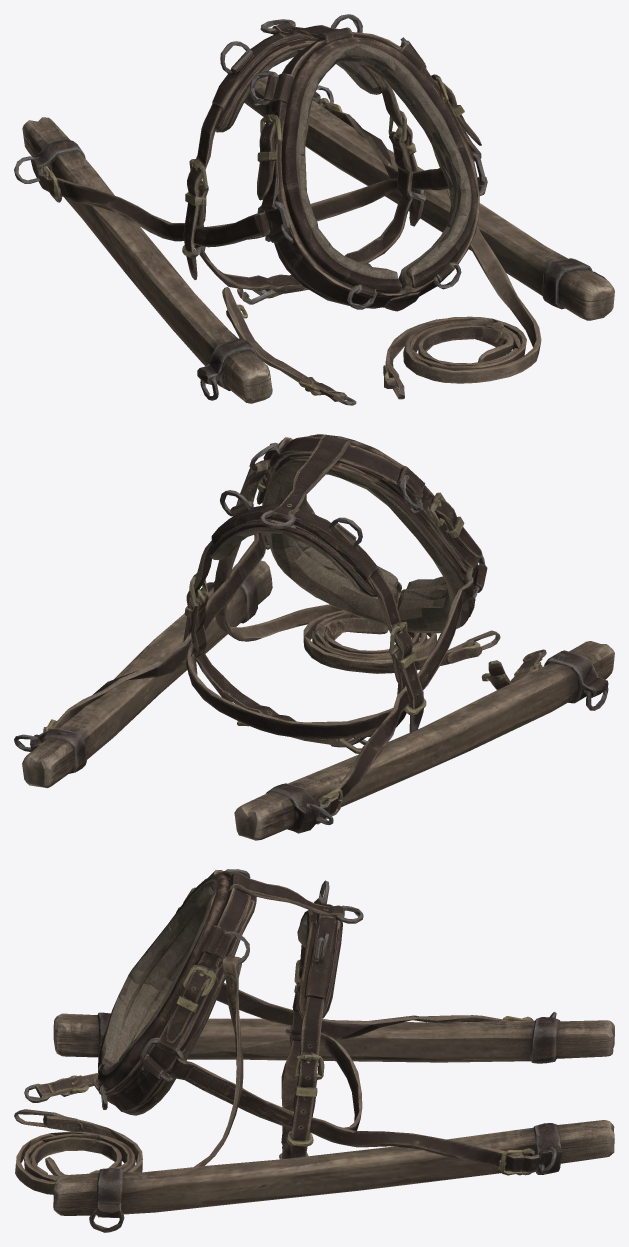
File: ArreiosCavalo.glb
The picture shows the model from 3 angles, top to bottom: view 1: azimuth 30°, elevation 25°; view 2: azimuth 150°, elevation 25°; view 3: azimuth 270°, elevation 25°; orthographic projection. The views are drawn at different scales.
Visible parts, largest first — view 1: output_unwrapped; view 2: output_unwrapped; view 3: output_unwrapped.
Part boxes in pixels (left/top/right/bottom): output_unwrapped: left=14, top=14, right=614, bottom=405; output_unwrapped: left=14, top=434, right=614, bottom=840; output_unwrapped: left=14, top=869, right=614, bottom=1232.
Bounding box in the file's own units: 1.42 × 0.9377 × 1.9.
1 material, 1 textured.
